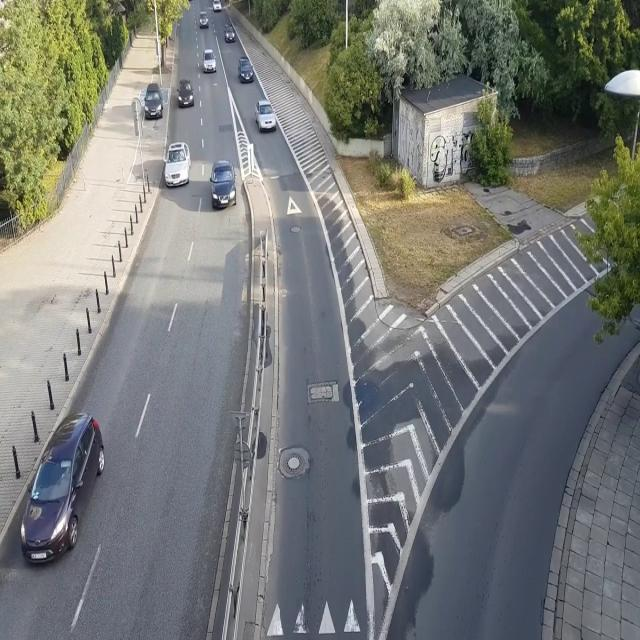car: (19, 414, 106, 569), (163, 139, 192, 189), (209, 161, 237, 210), (253, 100, 276, 133), (143, 83, 163, 119), (176, 78, 194, 108), (237, 56, 254, 83), (202, 48, 218, 72), (223, 24, 236, 42), (211, 0, 224, 14), (198, 11, 208, 29)
